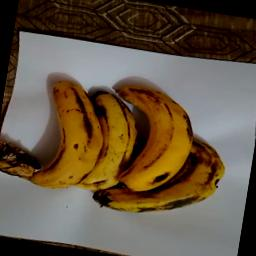Banana Unripe: (12, 74, 236, 225), (97, 76, 206, 202), (18, 77, 104, 193), (66, 84, 148, 199)
